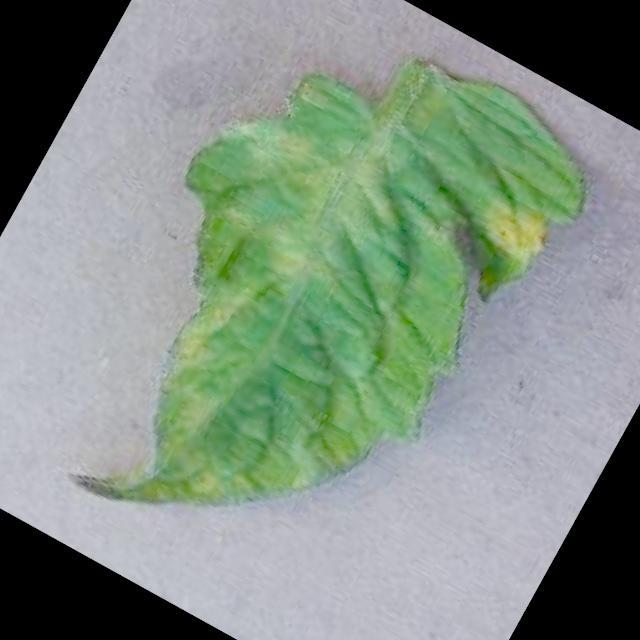Tomato mold leaf: (21, 0, 610, 635)
